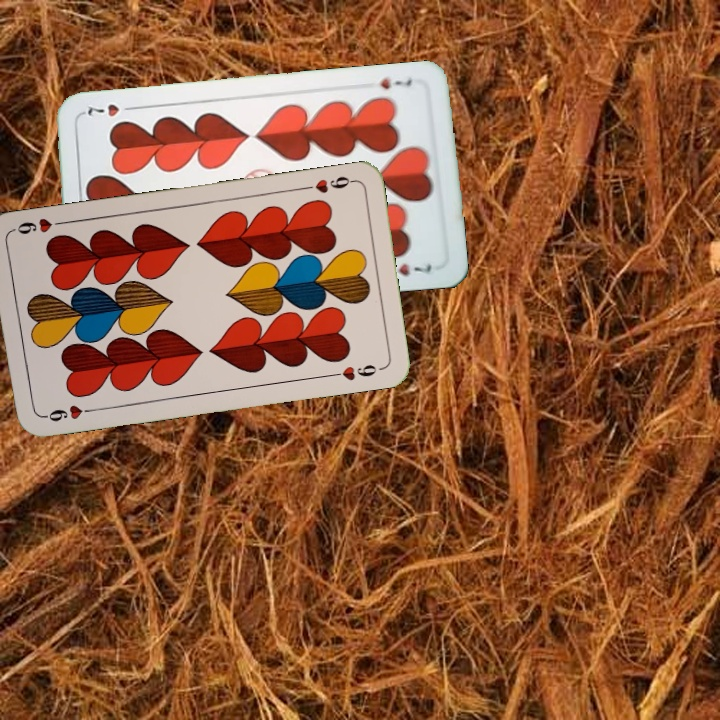H7: (376, 74, 414, 92)
H9: (298, 172, 358, 196), (38, 401, 97, 424)
